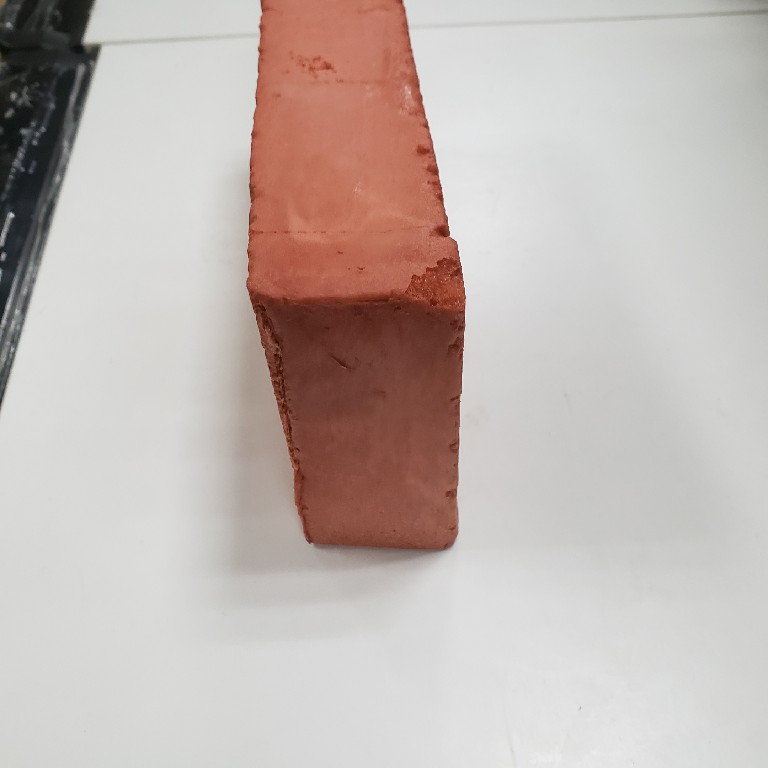brick: (242, 1, 472, 555)
